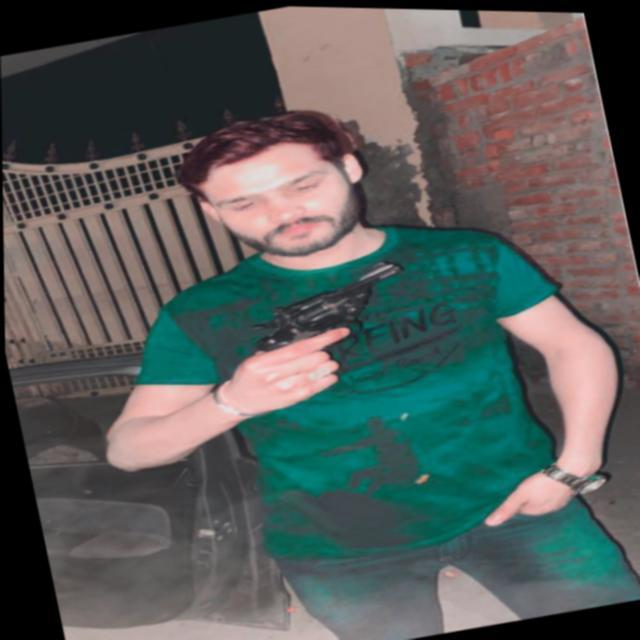weapon: (230, 248, 429, 402)
